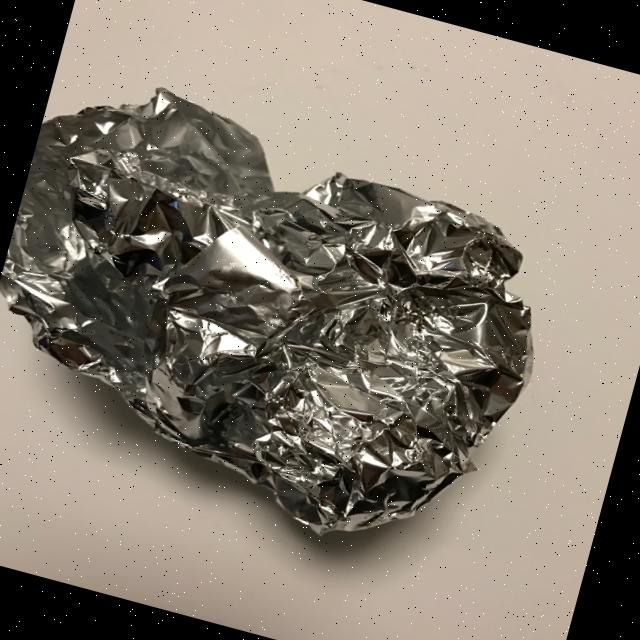metal: (0, 58, 578, 577)
